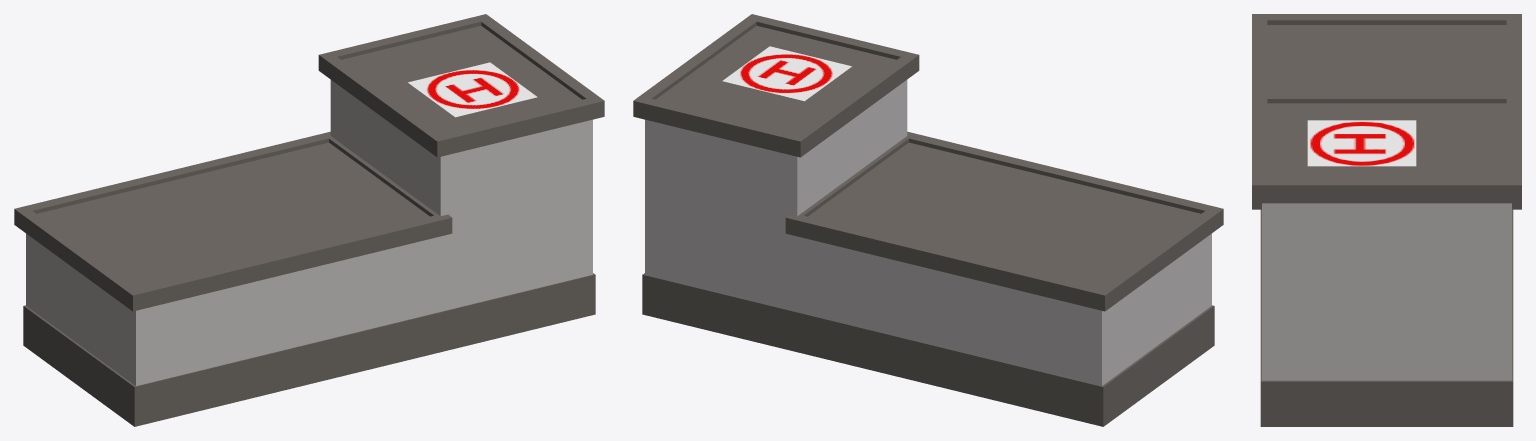
File: Hospital.glb
3 views of the same model, side by side, from view 1: azimuth 30°, elevation 25°; view 2: azimuth 150°, elevation 25°; view 3: azimuth 270°, elevation 25° (orthographic). The views are drawn at different scales.
Visible parts, largest first — view 1: Hospital; view 2: Hospital; view 3: Hospital.
Boxes of the visible parts, bbox=[...] form: Hospital: bbox=[14, 14, 604, 426]; Hospital: bbox=[633, 14, 1223, 426]; Hospital: bbox=[1252, 14, 1521, 426].
Size of the model in its own units: 12.4 by 5.4 by 5.4.
1 material, 1 textured.
